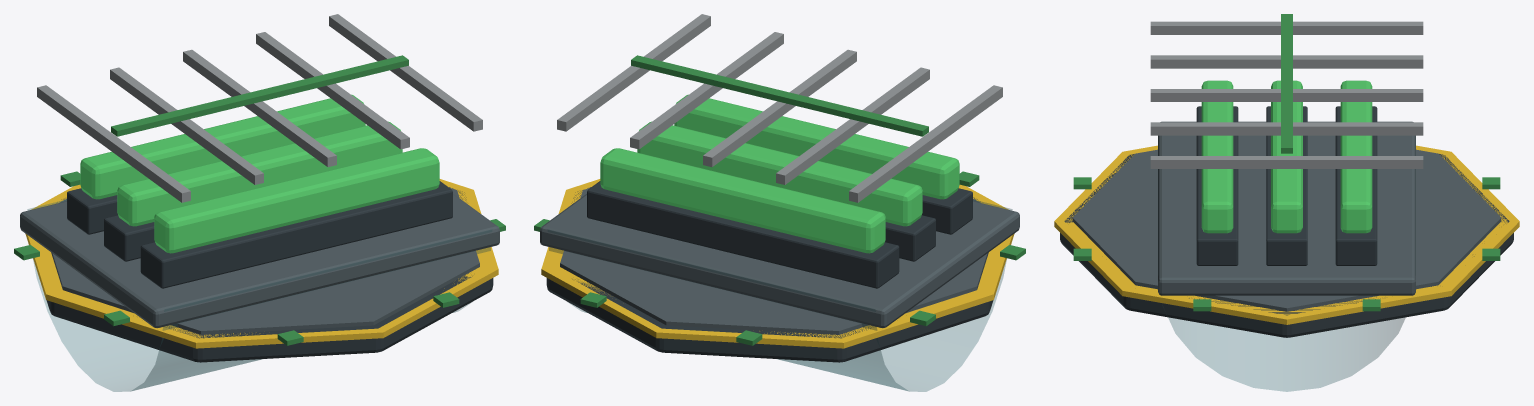
File: food_lab.fbx
3 views of the same model, side by side, from view 1: azimuth 30°, elevation 25°; view 2: azimuth 150°, elevation 25°; view 3: azimuth 270°, elevation 25° (orthographic). The views are drawn at different scales.
Parts seen in each view (by area): view 1: food_lab, ANIM_pulse_0.3__growlight; view 2: food_lab, ANIM_pulse_0.3__growlight; view 3: food_lab, ANIM_pulse_0.3__growlight.
Part boxes in pixels (x1,y1,x2,y2): food_lab: (14,14,505,391); ANIM_pulse_0.3__growlight: (111,55,408,136); food_lab: (534,14,1025,391); ANIM_pulse_0.3__growlight: (631,55,928,136); food_lab: (1054,21,1519,391); ANIM_pulse_0.3__growlight: (1281,14,1292,153).
Bounding box in the file's own units: 4.69 × 2.62 × 4.69.
